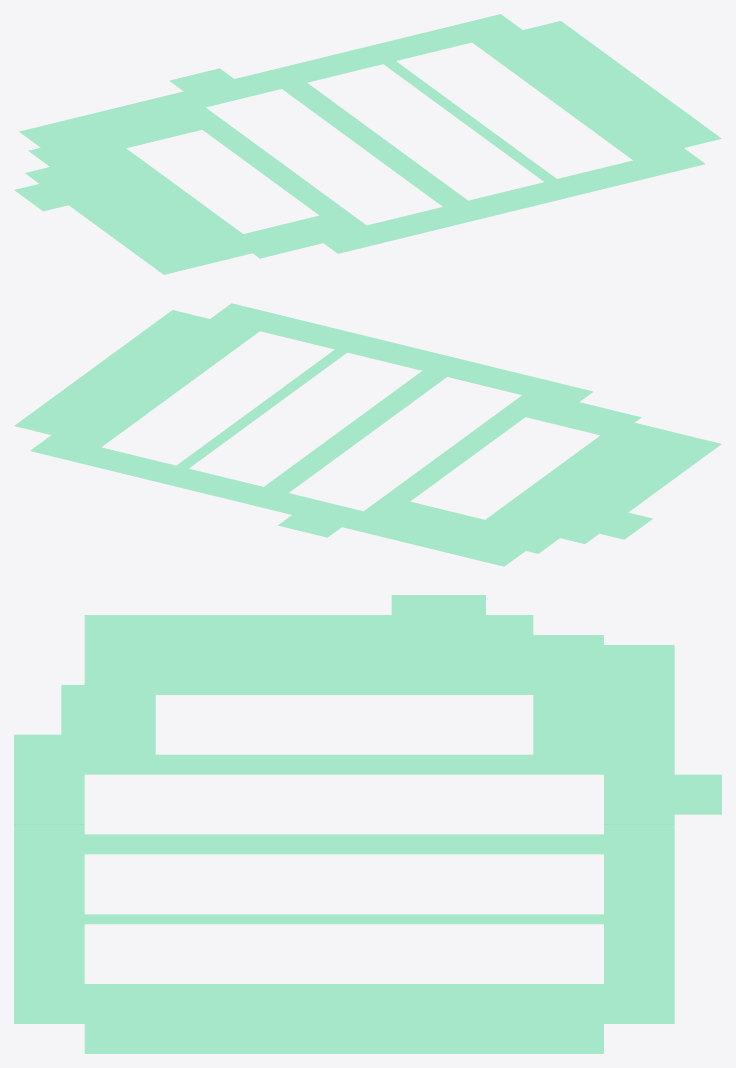
Rendered from navmesh.glb.
The picture shows the model from 3 angles, top to bottom: view 1: azimuth 30°, elevation 25°; view 2: azimuth 150°, elevation 25°; view 3: azimuth 270°, elevation 25°; orthographic projection. The views are drawn at different scales.
Parts seen in each view (by area): view 1: NAVMESH; view 2: NAVMESH; view 3: NAVMESH.
Boxes of the visible parts, x1,y1,x2,y2 form: NAVMESH: (14,14,721,274); NAVMESH: (14,303,721,566); NAVMESH: (14,595,721,1053).
Size of the model in its own units: 11.5 by 0 by 7.5.
